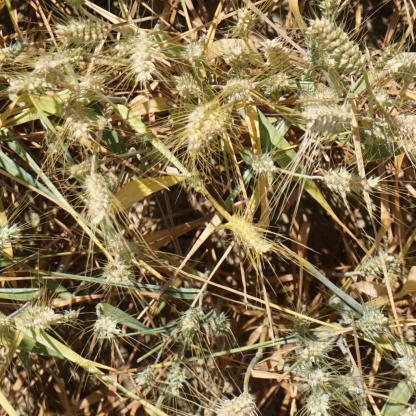whd: (305, 16, 366, 75), (185, 99, 230, 157), (126, 32, 162, 86), (227, 213, 273, 254), (320, 169, 381, 196), (300, 106, 356, 134), (55, 17, 107, 44), (28, 46, 83, 69), (85, 172, 108, 224), (215, 390, 257, 416), (352, 309, 390, 337), (262, 37, 293, 68), (18, 305, 56, 330), (358, 251, 394, 277), (299, 84, 338, 107), (63, 109, 91, 141), (103, 259, 132, 288), (303, 387, 333, 415), (178, 306, 204, 338), (303, 37, 327, 71), (224, 45, 254, 71), (298, 341, 331, 364), (0, 39, 28, 65), (9, 75, 48, 93), (362, 124, 392, 147), (166, 364, 186, 398), (113, 32, 139, 58), (93, 314, 119, 340), (181, 41, 206, 67), (391, 56, 415, 82), (174, 76, 202, 98), (374, 42, 396, 70), (106, 230, 130, 255), (264, 72, 291, 94), (250, 152, 278, 173), (339, 372, 363, 396), (372, 84, 395, 109), (0, 224, 26, 245), (396, 354, 416, 381), (78, 74, 106, 93), (235, 7, 258, 30), (210, 312, 231, 336), (306, 368, 331, 388), (319, 0, 340, 23), (186, 170, 206, 194), (66, 159, 92, 177), (225, 77, 256, 92), (32, 66, 64, 80), (134, 366, 154, 388), (292, 312, 312, 334), (397, 116, 416, 137), (55, 309, 77, 327), (104, 170, 121, 190), (0, 312, 13, 334), (132, 130, 150, 144)
